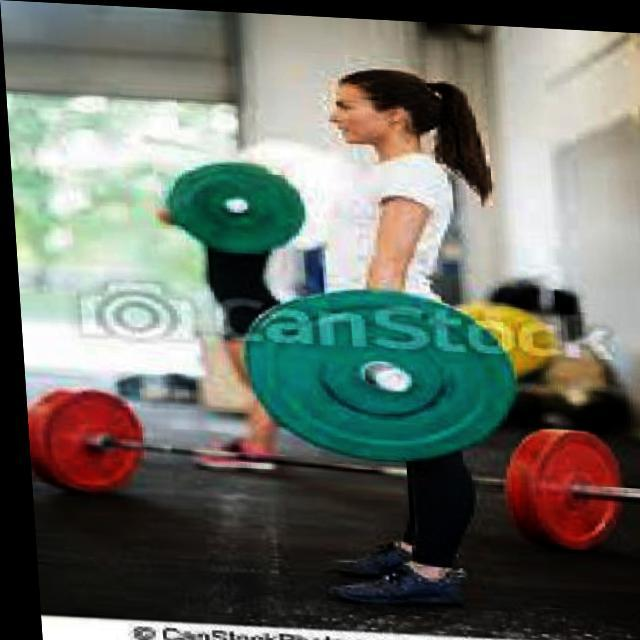barbell: (230, 273, 523, 476)
